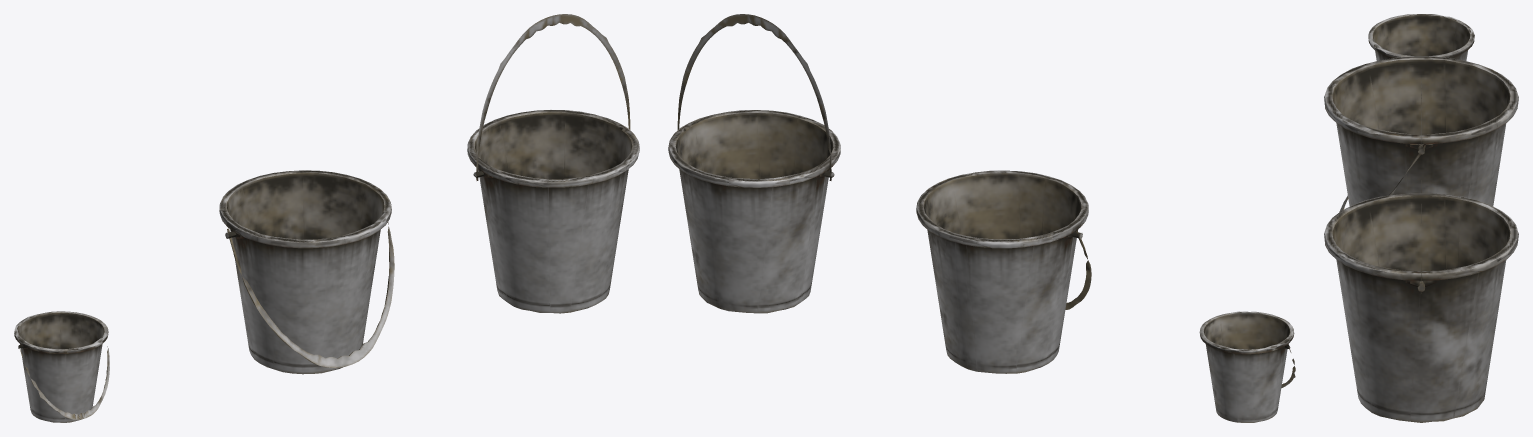
File: wash_bucket.glb
The picture shows the model from 3 angles, left to right: view 1: azimuth 30°, elevation 25°; view 2: azimuth 150°, elevation 25°; view 3: azimuth 270°, elevation 25°; orthographic projection. The views are drawn at different scales.
Visible parts, largest first — view 1: mesh; view 2: mesh; view 3: mesh.
Boxes of the visible parts, x1,y1,x2,y2 form: mesh: (14,14,639,422); mesh: (668,14,1295,422); mesh: (1324,14,1518,422).
Bounding box in the file's own units: 0.9823 × 0.42 × 0.2391.
1 material, 1 textured.
